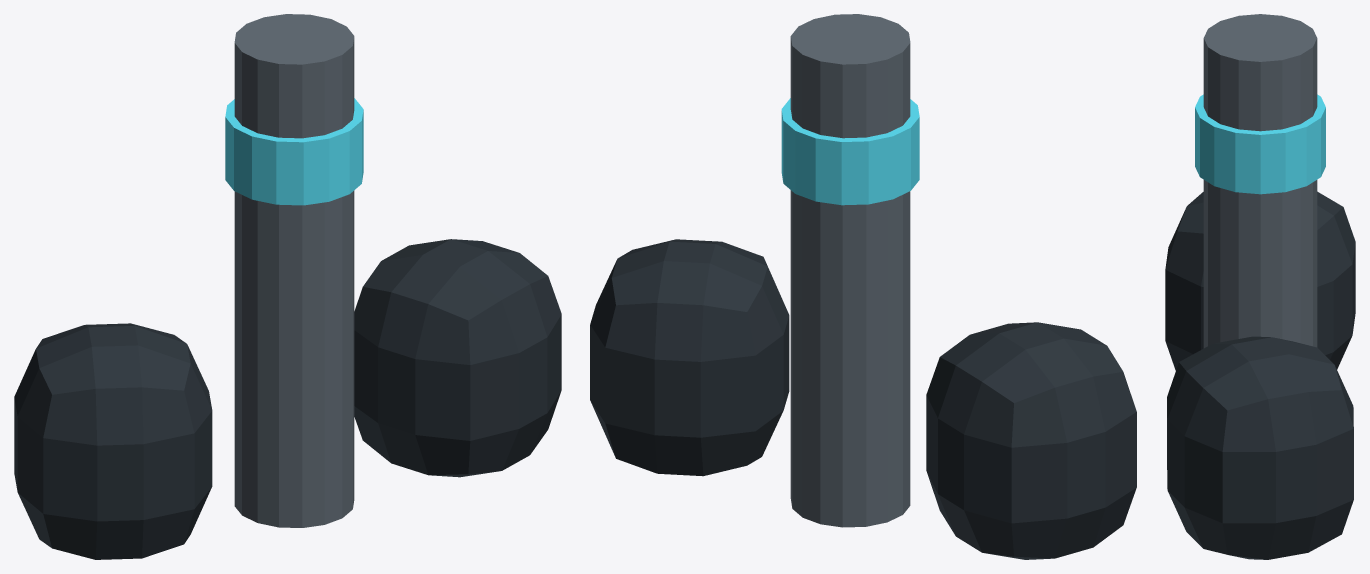
File: 0_Detail.fbx
3 renders of one model, left to right at view 1: azimuth 30°, elevation 25°; view 2: azimuth 150°, elevation 25°; view 3: azimuth 270°, elevation 25°, orthographic. The views are drawn at different scales.
Parts seen in each view (by area): view 1: Body; view 2: Body; view 3: Body.
Boxes of the visible parts, x1=… form: Body: x1=14, y1=14, x2=561, y2=559; Body: x1=590, y1=14, x2=1136, y2=559; Body: x1=1165, y1=14, x2=1355, y2=559.
Size of the model in its own units: 1.28 by 1.1 by 0.4357.
